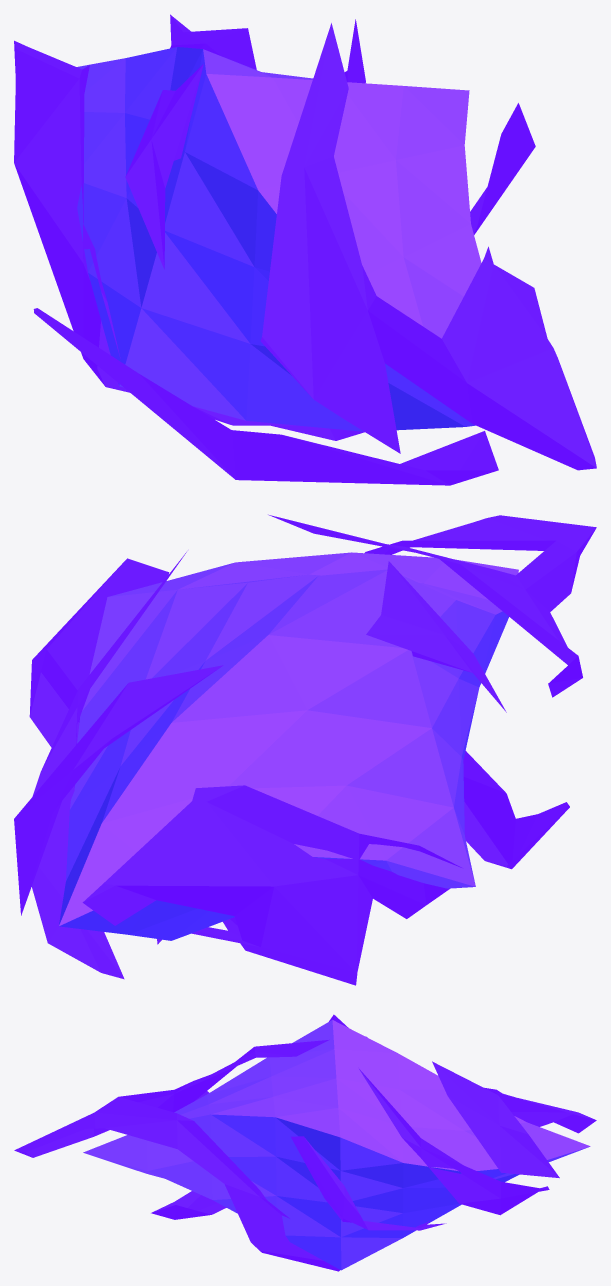
Rendered from magicshard.glb.
3 views of the same model, one above another, from view 1: azimuth 30°, elevation 25°; view 2: azimuth 150°, elevation 25°; view 3: azimuth 270°, elevation 25° (orthographic). The views are drawn at different scales.
Parts seen in each view (by area): view 1: Cone.001, Cone; view 2: Cone, Cone.001; view 3: Cone, Cone.001.
Part boxes in pixels (bbox=[...]): Cone.001: bbox=[14, 14, 596, 485]; Cone: bbox=[77, 47, 481, 431]; Cone: bbox=[59, 552, 518, 940]; Cone.001: bbox=[14, 514, 596, 985]; Cone: bbox=[83, 1020, 590, 1270]; Cone.001: bbox=[14, 1014, 596, 1271].
Bounding box in the file's own units: 0.1816 × 0.1437 × 0.3321.
